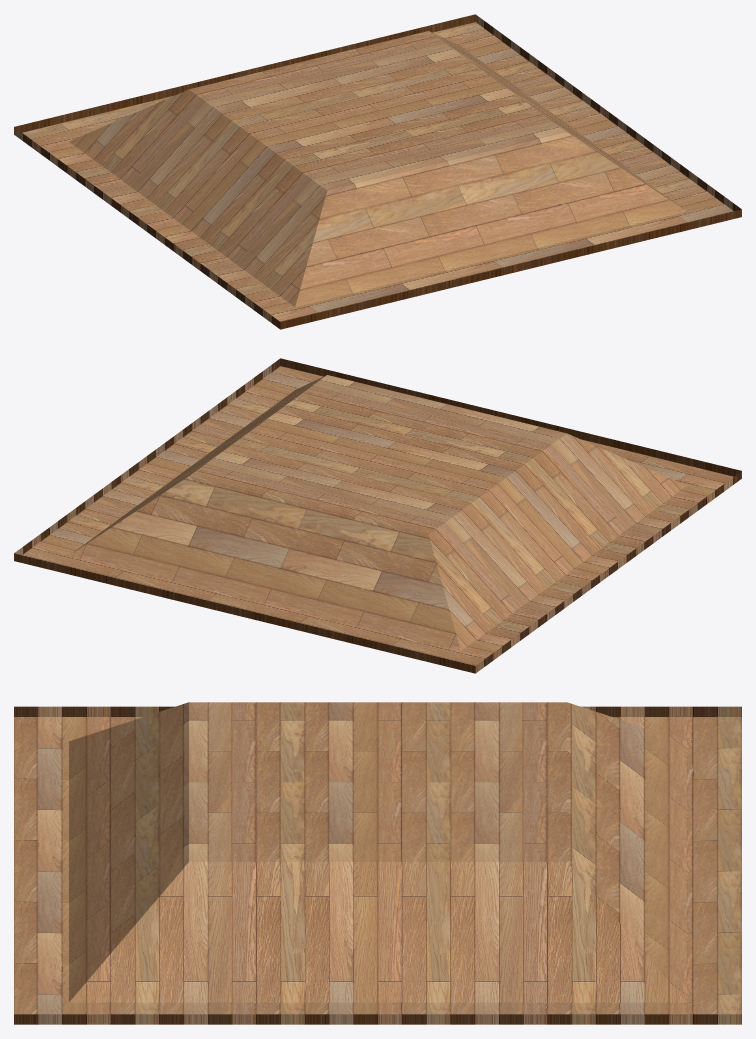
The model's file is RoomRoof.FBX.
3 views of the same model, one above another, from view 1: azimuth 30°, elevation 25°; view 2: azimuth 150°, elevation 25°; view 3: azimuth 270°, elevation 25° (orthographic). The views are drawn at different scales.
Visible parts, largest first — view 1: Object001; view 2: Object001; view 3: Object001.
Boxes of the visible parts, <box> form: Object001: <box>14,14,741,329</box>; Object001: <box>14,358,741,673</box>; Object001: <box>14,702,741,1024</box>.
Size of the model in its own units: 250 by 34.1 by 250.
